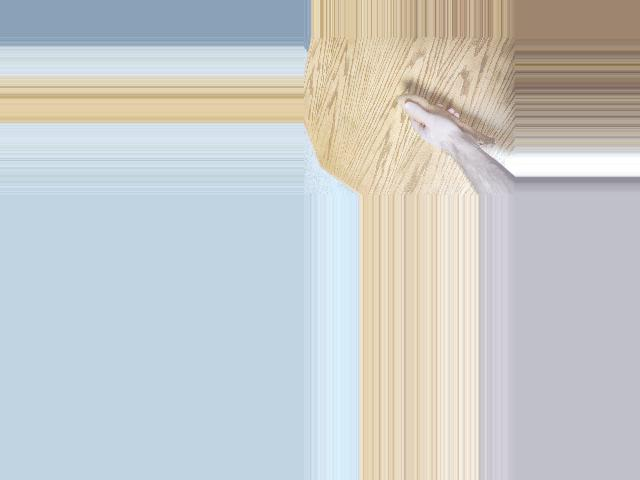sweet_potato: (402, 95, 497, 150)
